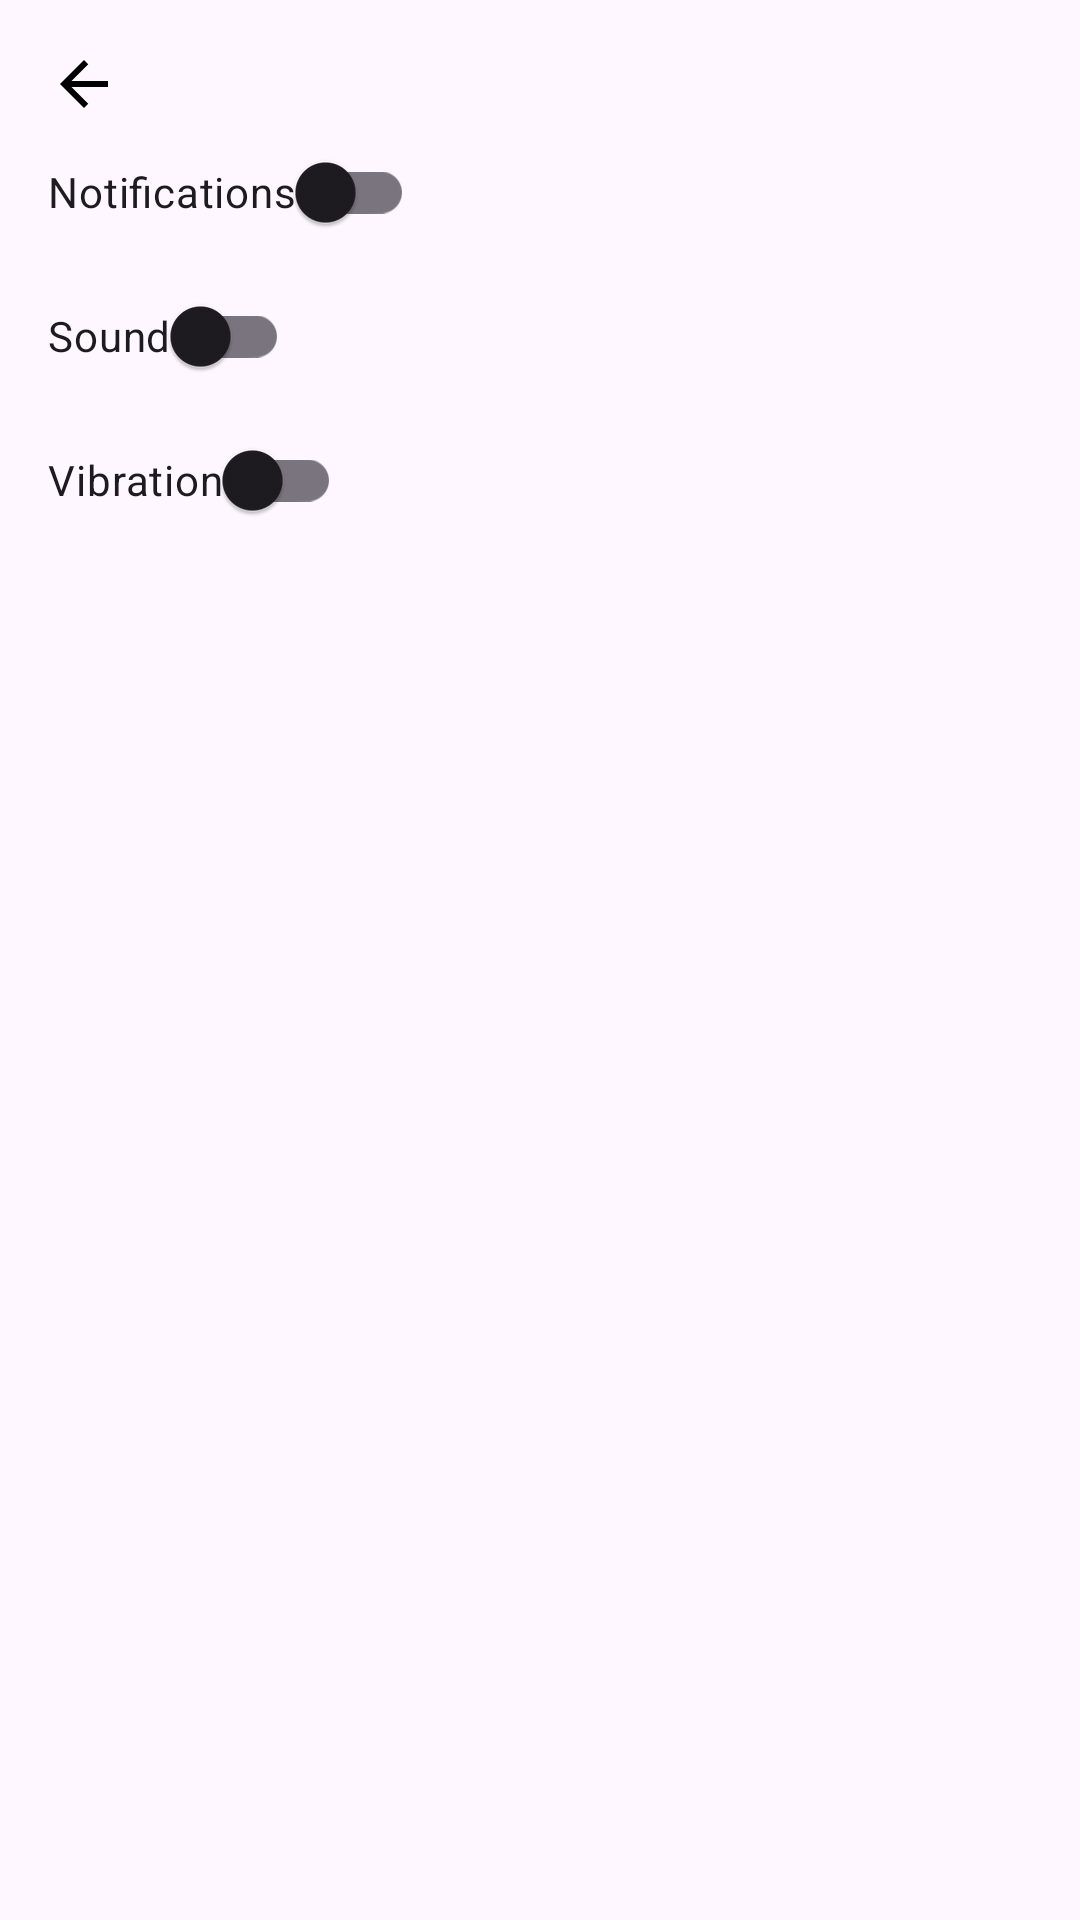

Locate icon controls on the screen. Image size 1080px×1920px, boxes as (x1, y1, x2, y2).
Go Back: (60, 60, 108, 108)
